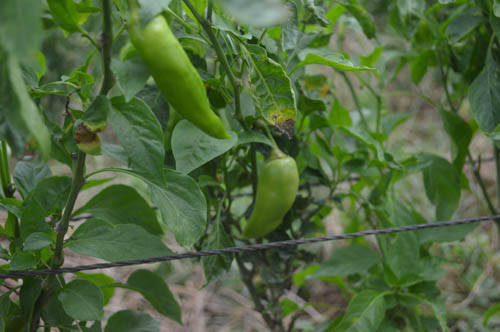ChiliPepper: (134, 15, 230, 139), (246, 156, 297, 244)
